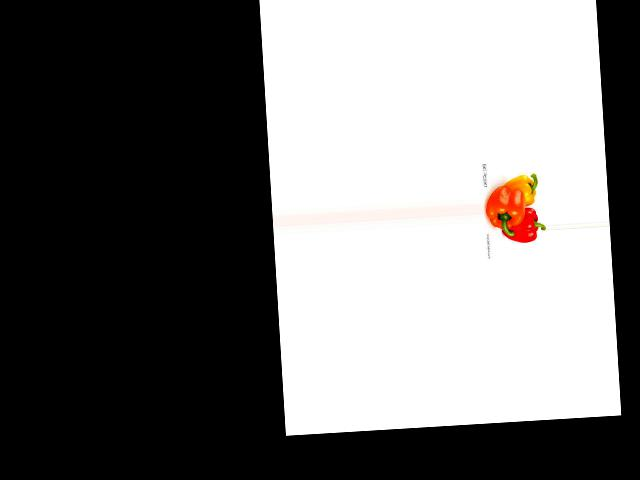bell_pepper: (502, 171, 541, 209)
